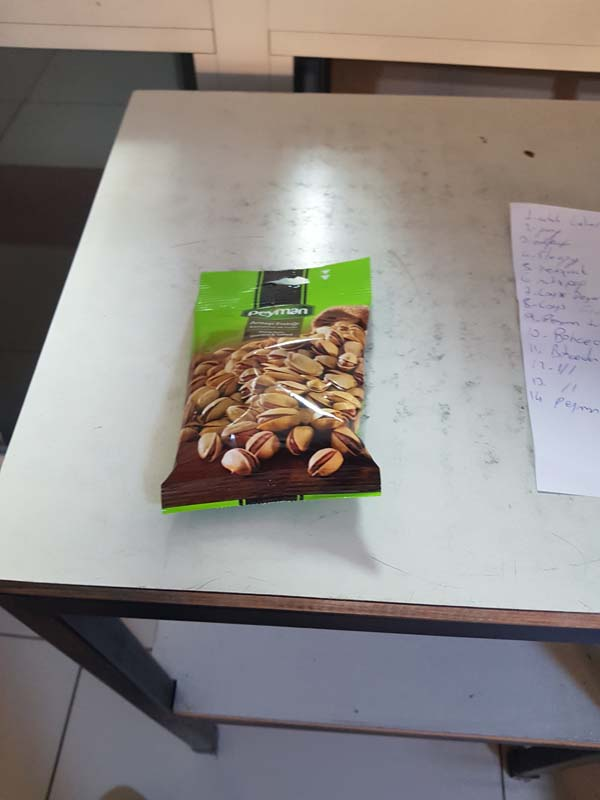antepfistigi: (155, 249, 386, 528)
